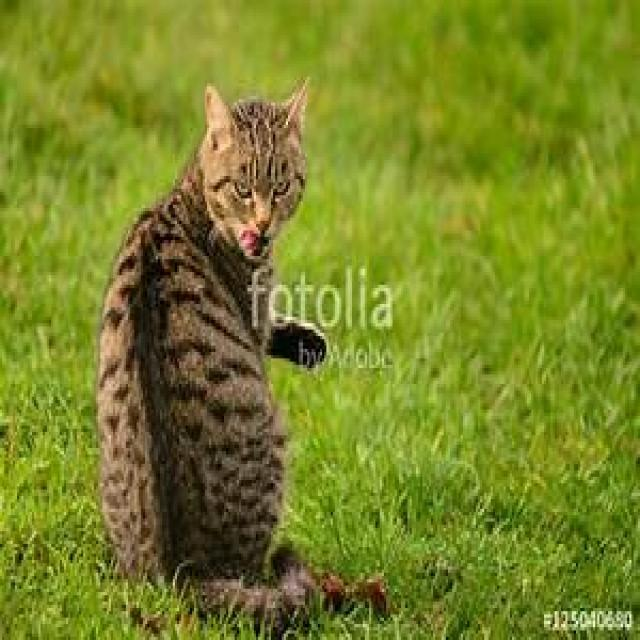cat: (94, 74, 386, 636)
